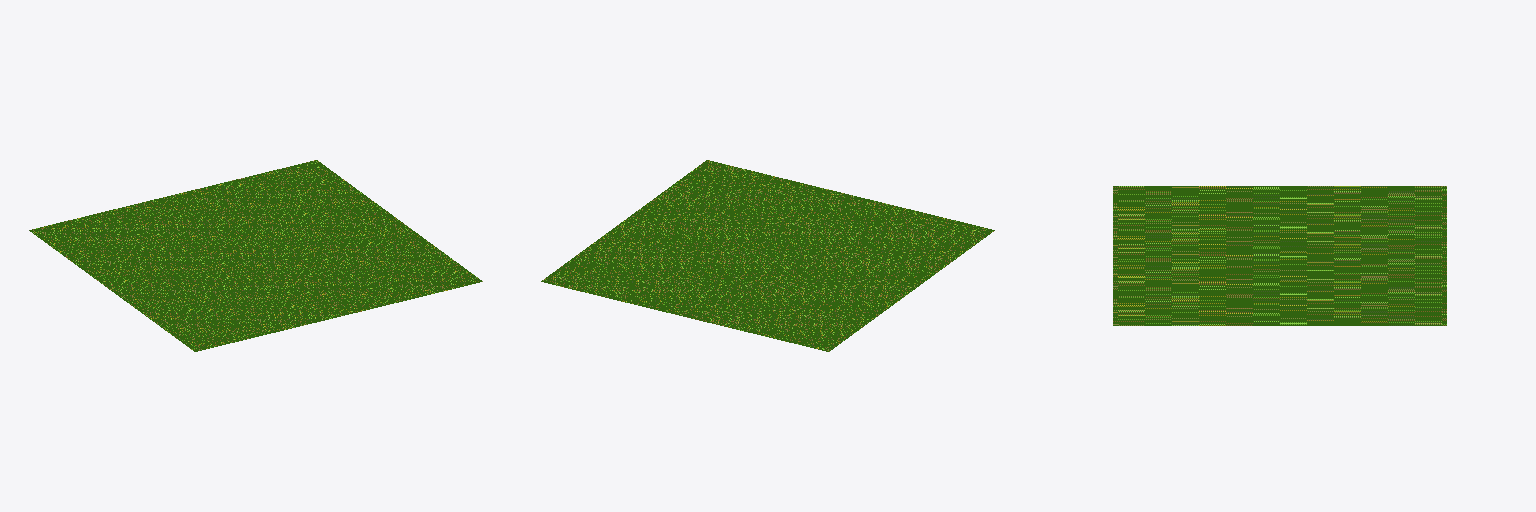
The picture shows the model from 3 angles: view 1: azimuth 30°, elevation 25°; view 2: azimuth 150°, elevation 25°; view 3: azimuth 270°, elevation 25°; orthographic projection.
Parts seen in each view (by area): view 1: 平面; view 2: 平面; view 3: 平面.
Part boxes in pixels (x1,y1,x2,y2): 平面: (29, 160, 482, 351); 平面: (541, 160, 994, 351); 平面: (1113, 186, 1446, 325).
Bounding box in the file's own units: 1000 × 0 × 1000.
1 materials, 1 textured.